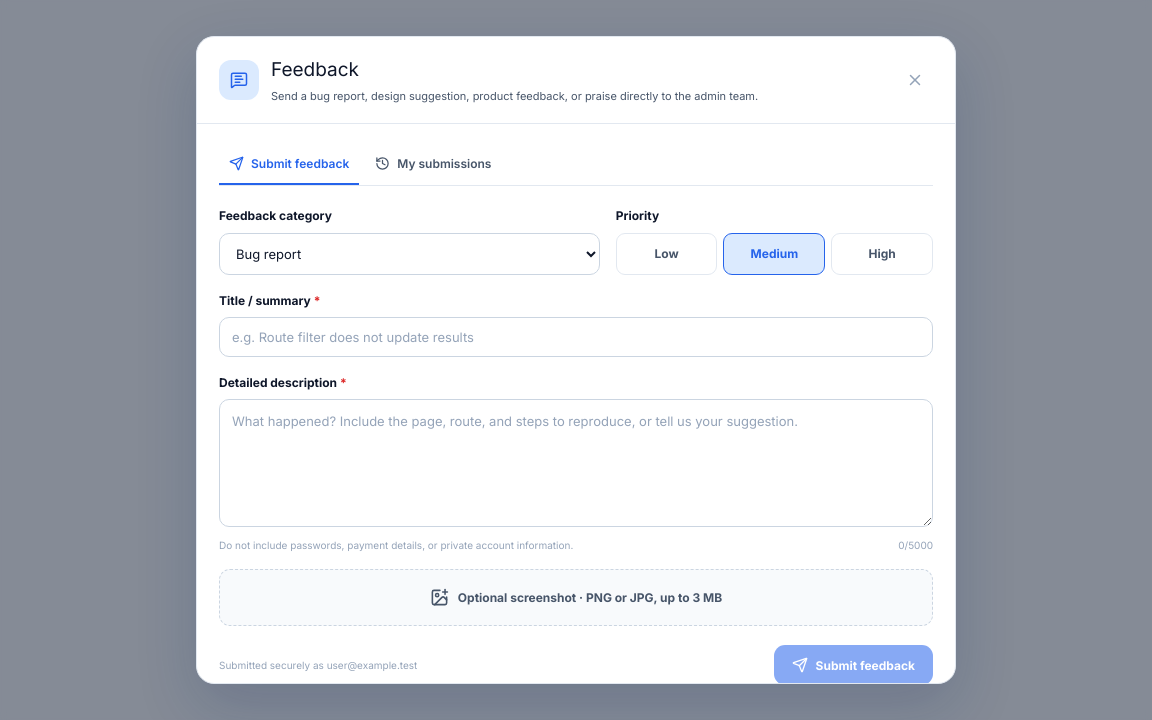
Test case: the feedback entry opens the structured report form and submits to the admin queue
This screenshot has width=1152, height=720.
Expected: the dialog "Feedback" is shown, [196,36,956,684]
Expected: the tab "My submissions" is shown, [365,144,501,185]
Select "Praise / positive feedback" in the dropdown labelled "Feedback category" at (409, 254), box [219,232,600,274]
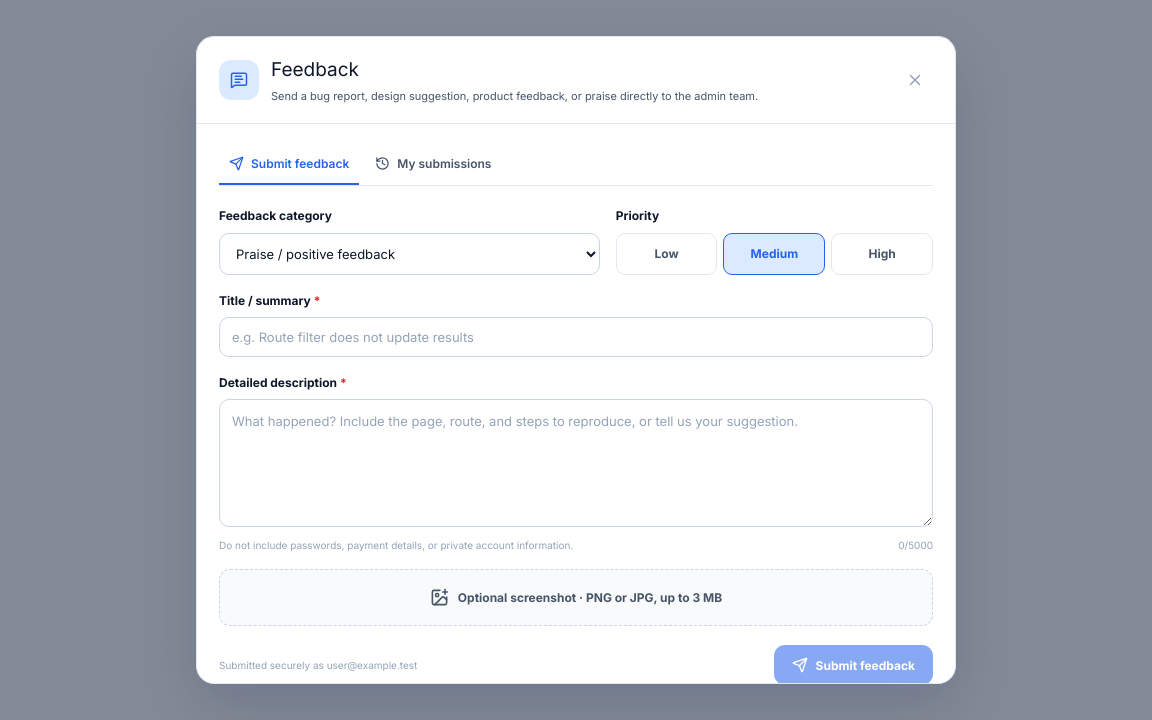
Type "Great route insights" into the field labelled "Title / summary *" at (576, 337), box [219,317,933,357]
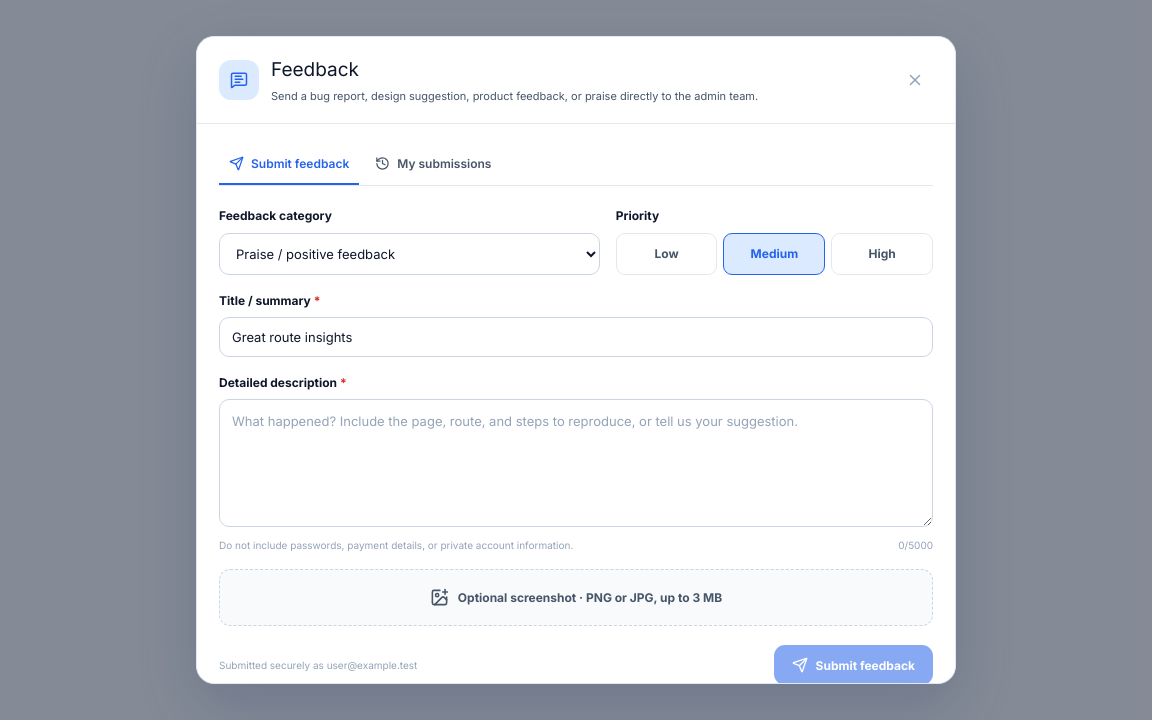
Replace the text in the text box labelled "Detailed description *" with "The route comparison is clear and useful." at (576, 463), box [219,399,933,527]
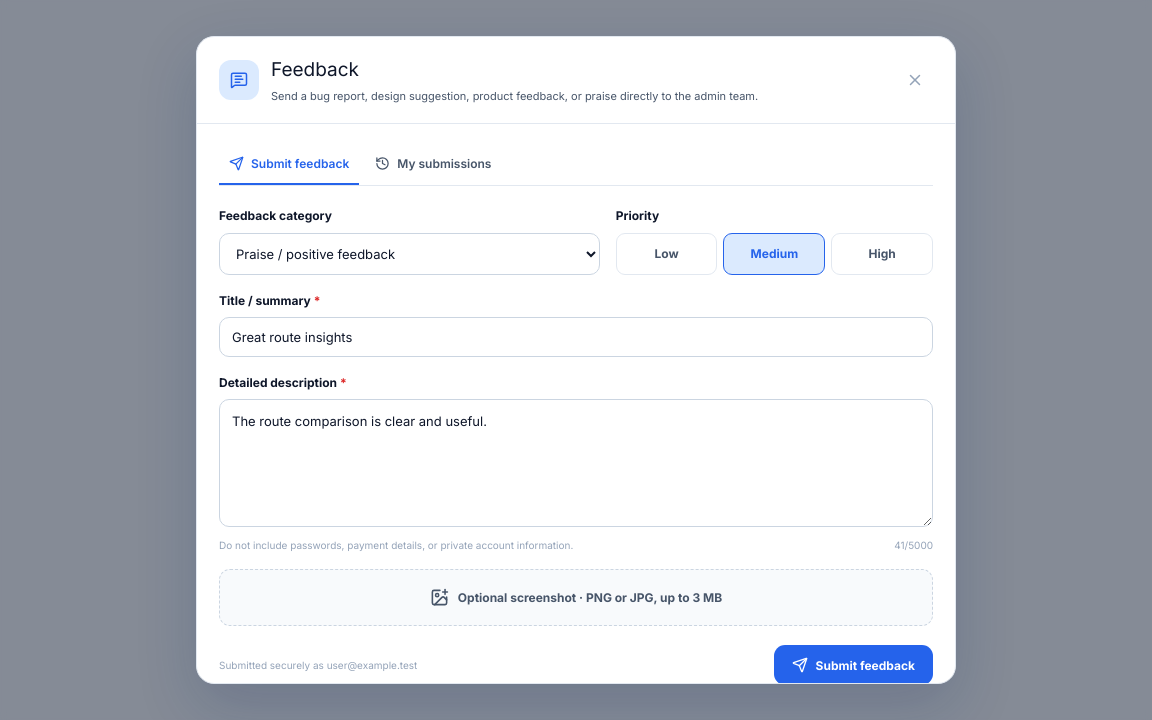
Click the button "Submit feedback" at (853, 665), box [774,645,933,685]
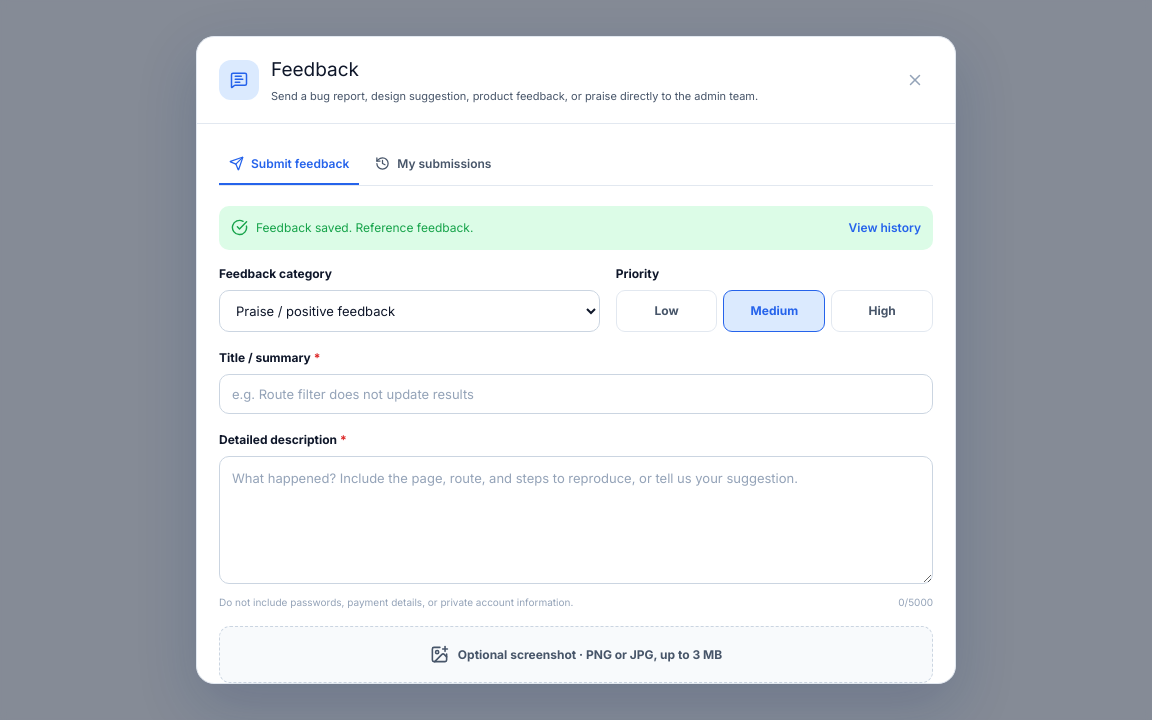
Now the text "Feedback saved. Reference feedback." is shown, box [256,218,473,238]
